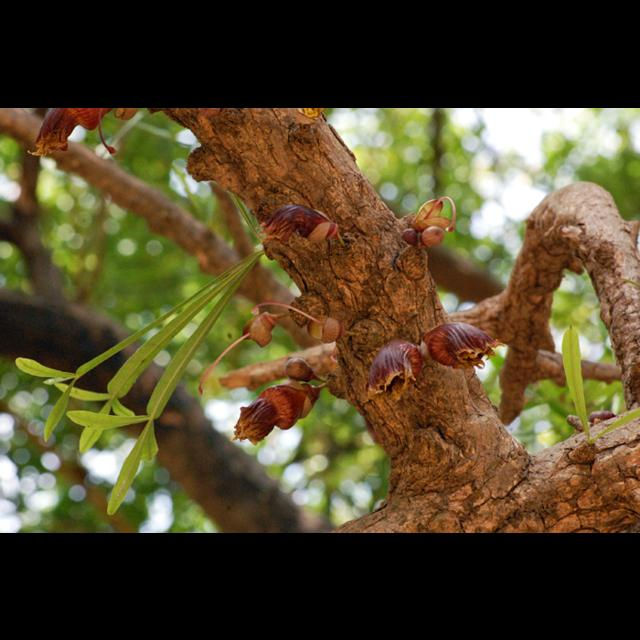Flower: (423, 308, 502, 382)
